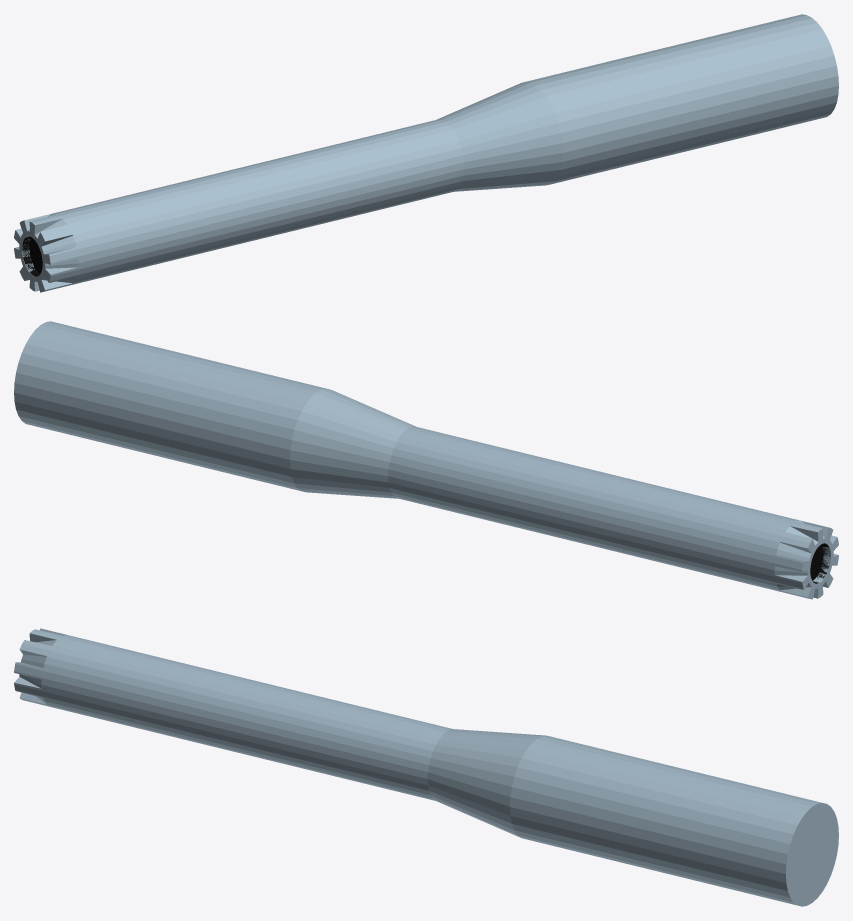
File: mikrofon.obj
3 views of the same model, one above another, from view 1: azimuth 30°, elevation 25°; view 2: azimuth 150°, elevation 25°; view 3: azimuth 330°, elevation 25° (orthographic).
Visible parts, largest first — view 1: Cylinder, Cylinder.002; view 2: Cylinder, Cylinder.002; view 3: Cylinder.
Boxes of the visible parts, x1,y1,x2,y2 form: Cylinder: (14, 14, 838, 292); Cylinder.002: (22, 236, 42, 276); Cylinder: (14, 321, 838, 599); Cylinder.002: (810, 543, 830, 583); Cylinder: (14, 628, 838, 906).
Bounding box in the file's own units: 16.96 × 2 × 2.
